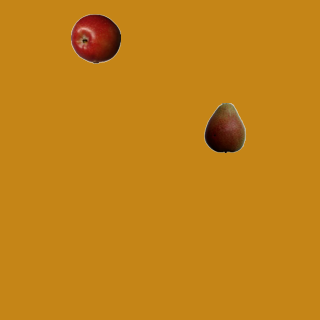Apple Braeburn: (70, 13, 120, 63)
Pear Forelle: (199, 102, 249, 152)
